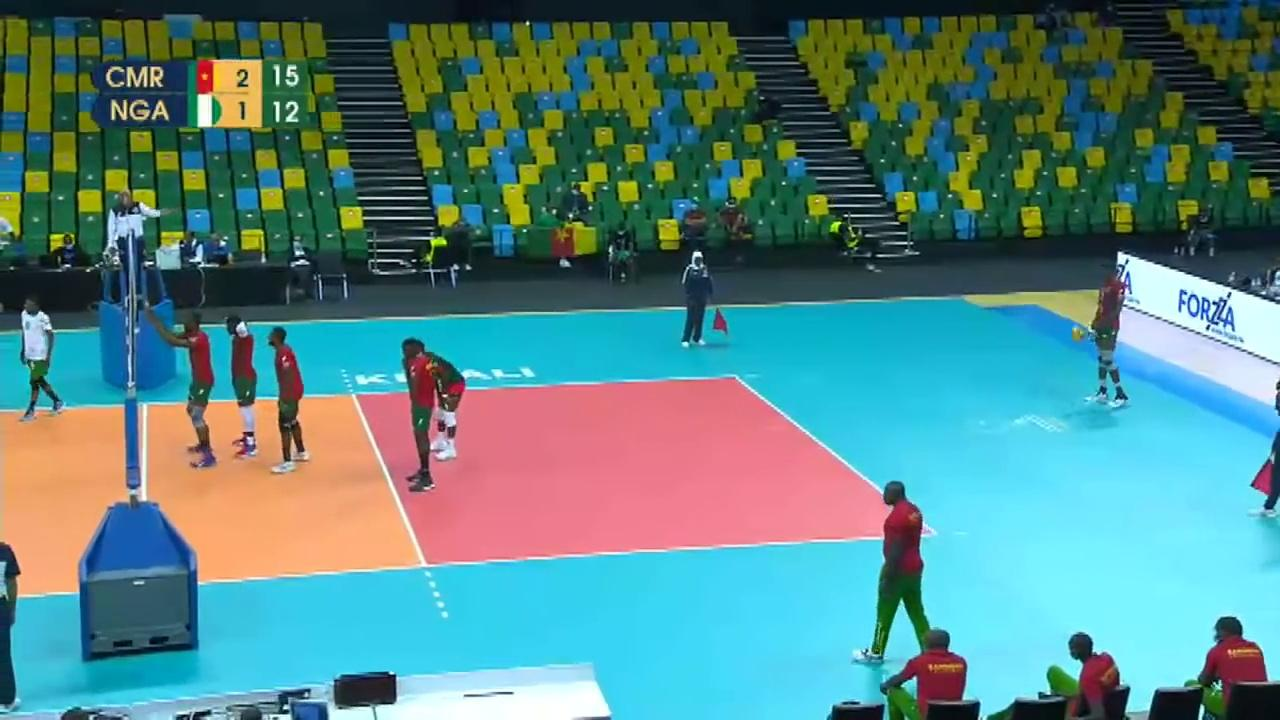player: (161, 310, 216, 467), (407, 340, 469, 460), (264, 325, 311, 471), (1085, 262, 1132, 403), (399, 338, 439, 488), (16, 295, 65, 417), (224, 311, 259, 456)
refree: (682, 249, 727, 346), (108, 187, 149, 289)
